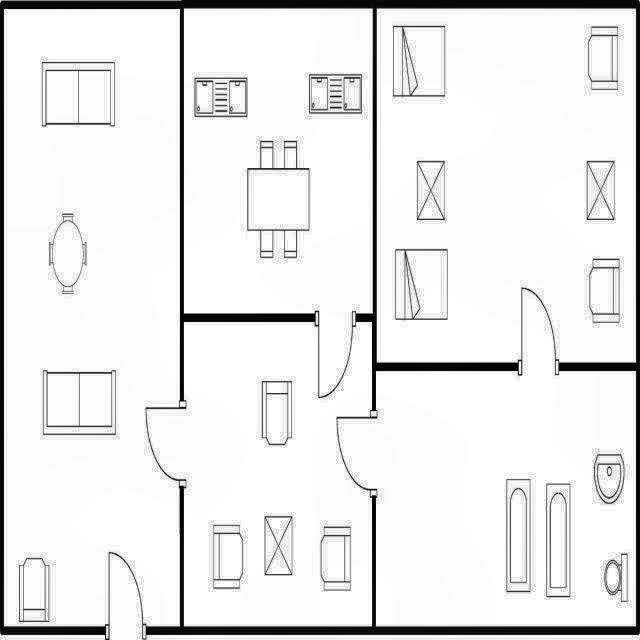room: (4, 9, 180, 627), (377, 8, 636, 363), (376, 371, 636, 626), (184, 8, 373, 314), (184, 322, 372, 627)
